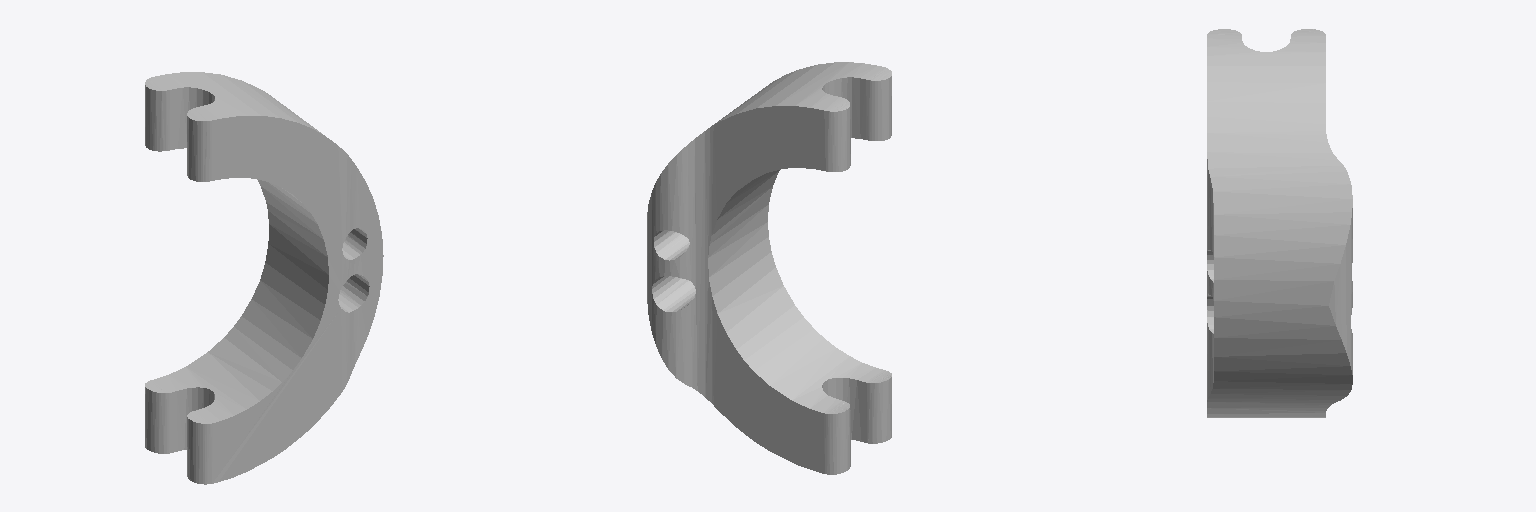
Rendered from seg8.OBJ.
The picture shows the model from 3 angles: view 1: azimuth 30°, elevation 25°; view 2: azimuth 150°, elevation 25°; view 3: azimuth 270°, elevation 25°; orthographic projection.
Visible parts, largest first — view 1: /ambf/env/seg8_seg8; view 2: /ambf/env/seg8_seg8; view 3: /ambf/env/seg8_seg8.
Boxes of the visible parts, box(x1,y1,x2,y2) form: /ambf/env/seg8_seg8: box(145, 72, 383, 484); /ambf/env/seg8_seg8: box(647, 62, 891, 474); /ambf/env/seg8_seg8: box(1207, 29, 1352, 417).
Bounding box in the file's own units: 0.0033 × 0.006 × 0.0022.